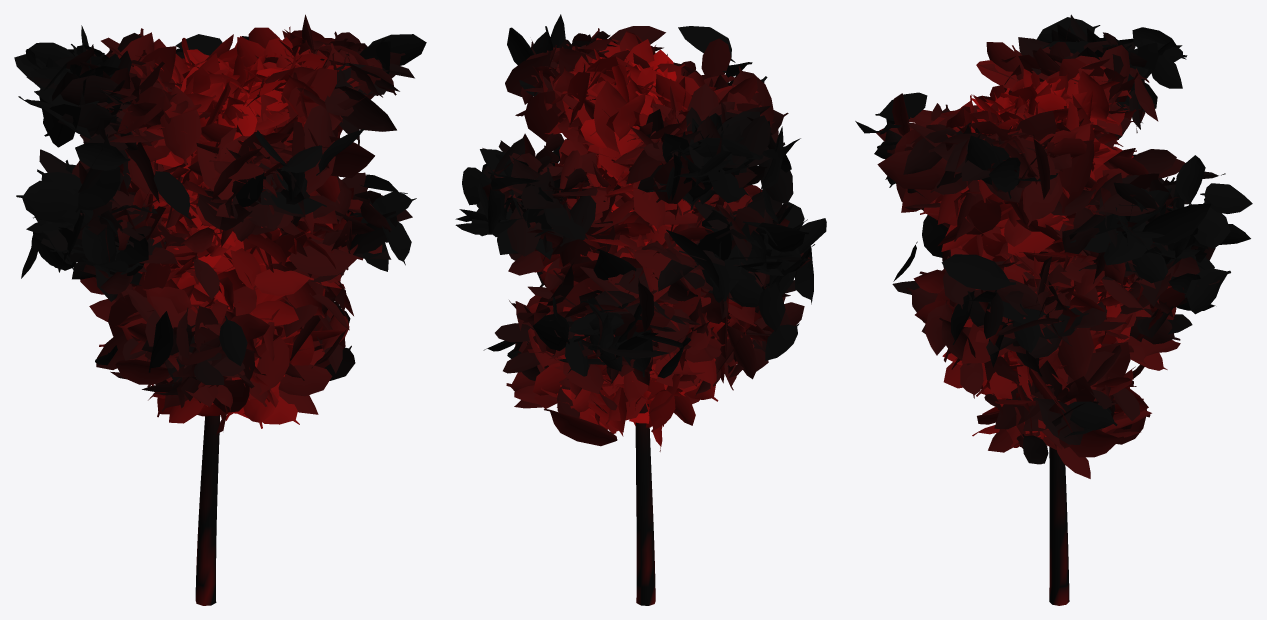
File: SM_SaplingBroadleaf_02.fbx
The picture shows the model from 3 angles, left to right: view 1: azimuth 30°, elevation 25°; view 2: azimuth 150°, elevation 25°; view 3: azimuth 270°, elevation 25°; orthographic projection. The views are drawn at different scales.
Visible parts, largest first — view 1: SM_SaplingBroadleaf_02; view 2: SM_SaplingBroadleaf_02; view 3: SM_SaplingBroadleaf_02.
Boxes of the visible parts, x1,y1,x2,y2 form: SM_SaplingBroadleaf_02: (14, 14, 426, 605); SM_SaplingBroadleaf_02: (455, 14, 826, 605); SM_SaplingBroadleaf_02: (855, 14, 1252, 605).
Size of what is drawn, in the model's own units: 109 by 108 by 161.
